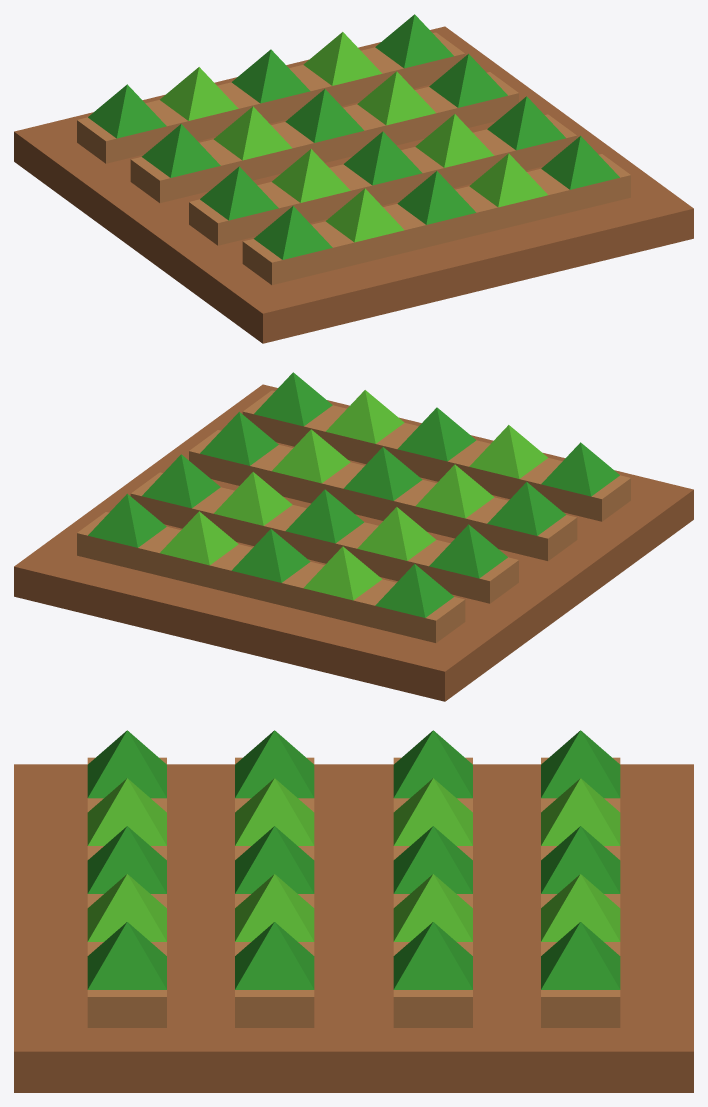
File: field_t1_v2.glb
3 renders of one model, top to bottom at view 1: azimuth 30°, elevation 25°; view 2: azimuth 150°, elevation 25°; view 3: azimuth 270°, elevation 25°, orthographic. The views are drawn at different scales.
Parts seen in each view (by area): view 1: field_t1_v2; view 2: field_t1_v2; view 3: field_t1_v2.
Part boxes in pixels (box(x1,y1,x2,y2)): field_t1_v2: box(14, 14, 693, 343); field_t1_v2: box(14, 372, 693, 701); field_t1_v2: box(14, 730, 693, 1092).
Bounding box in the file's own units: 0.6 × 0.12 × 0.6.
Materials: 1 (1 with a texture image).
